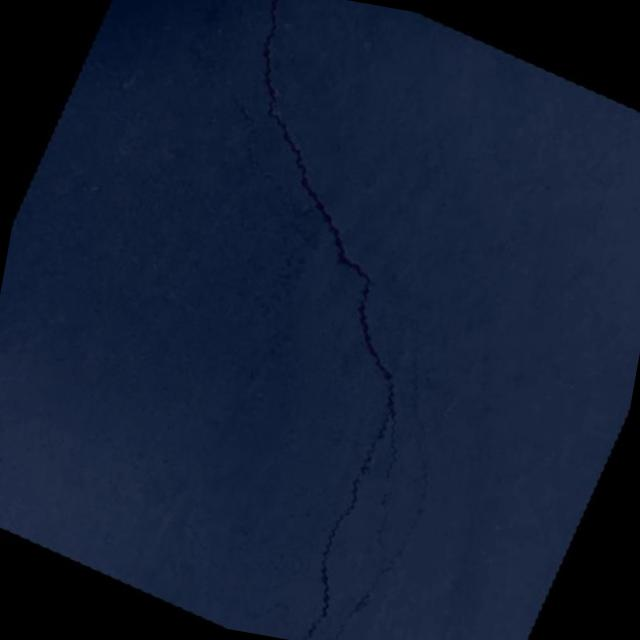crack: (15, 0, 640, 640), (210, 99, 312, 192), (190, 0, 277, 91)
